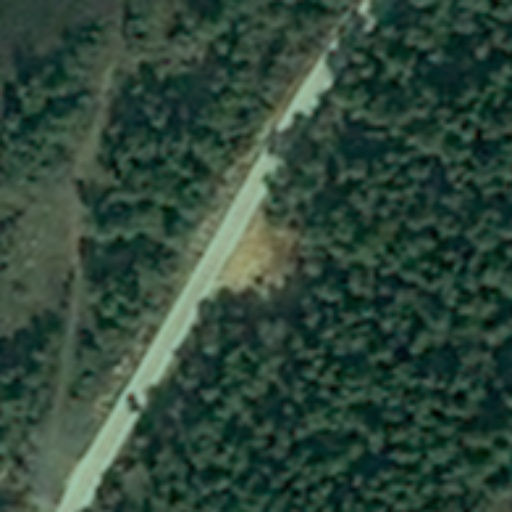landslide: (223, 219, 297, 291)
